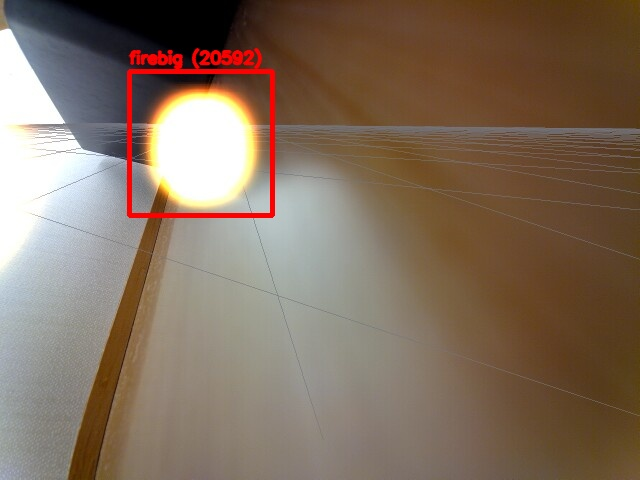firebig: (129, 71, 272, 215)
